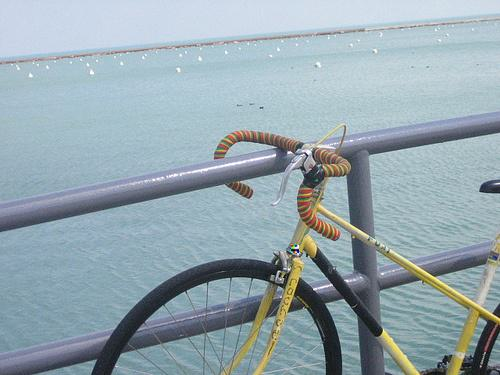car: (91, 123, 500, 375)
